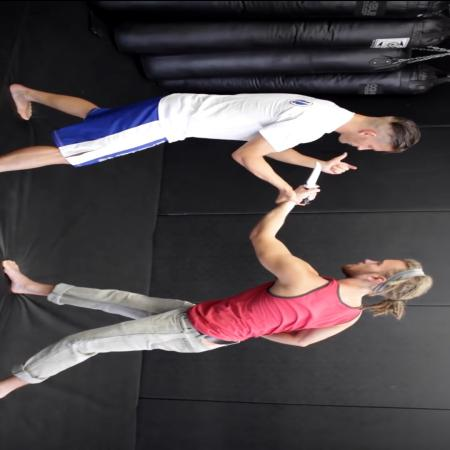long weapon: (297, 158, 331, 210)
